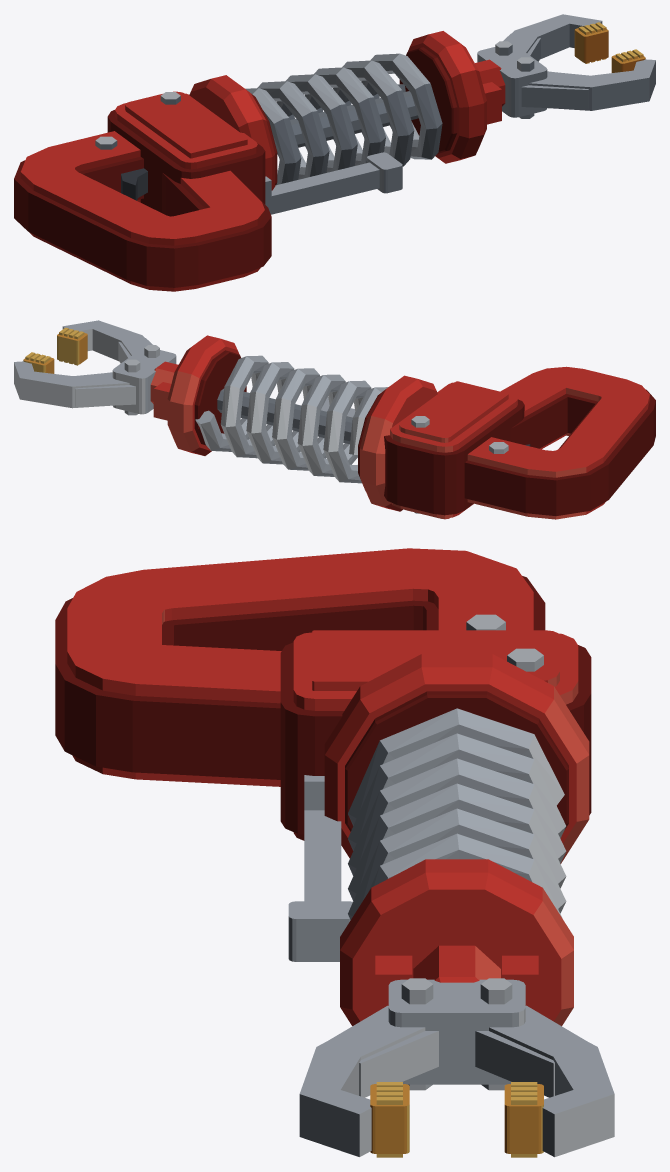
Rendered from SpringLoadedPicker.fbx.
The picture shows the model from 3 angles, top to bottom: view 1: azimuth 30°, elevation 25°; view 2: azimuth 150°, elevation 25°; view 3: azimuth 270°, elevation 25°; orthographic projection. The views are drawn at different scales.
Visible parts, largest first — view 1: PickerHandle, PickerSpring, PickerHead, PickerJawBottom, PickerRod, PickerJawTop; view 2: PickerHandle, PickerSpring, PickerHead, PickerJawTop, PickerRod, PickerJawBottom; view 3: PickerHandle, PickerSpring, PickerHead, PickerJawTop, PickerJawBottom, PickerRod.
Part boxes in pixels (x1,y1,x2,y2): PickerHandle: (14,75,402,291); PickerSpring: (245,53,442,184); PickerHead: (399,31,505,163); PickerJawBottom: (521,49,655,110); PickerRod: (290,41,547,147); PickerJawTop: (503,14,608,63); PickerHandle: (321,366,655,519); PickerSpring: (195,355,388,483); PickerHead: (150,335,246,455); PickerJawTop: (14,352,135,408); PickerRod: (112,345,352,444); PickerJawBottom: (57,320,152,365); PickerHandle: (55,548,591,961); PickerSpring: (348,708,566,919); PickerHead: (340,859,573,1026); PickerJawTop: (475,1005,614,1157); PickerJawBottom: (299,1005,438,1157); PickerRod: (388,978,525,1090).
Bounding box in the file's own units: 489 × 100 × 212.
